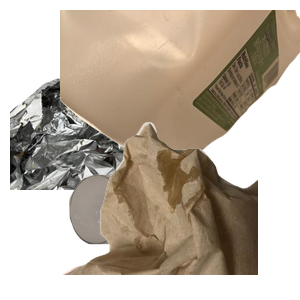glass: (67, 172, 229, 300)
metal: (10, 73, 212, 253)
plastic: (60, 10, 300, 160)
trash: (60, 120, 300, 300)
